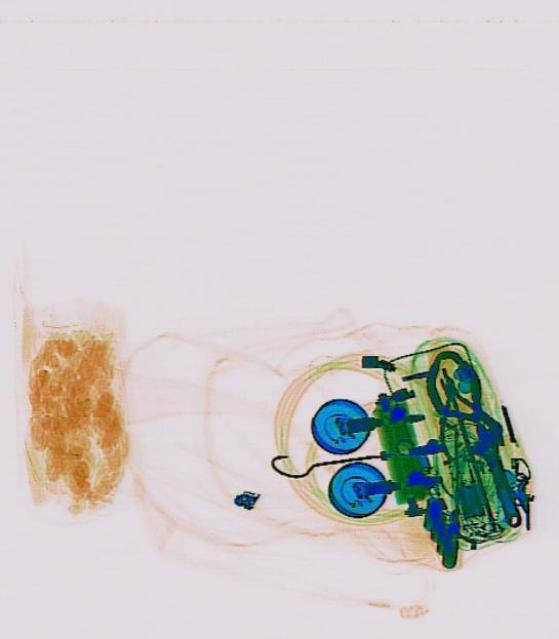Pliers: (415, 360, 504, 463)
Wrench: (462, 411, 532, 533)
